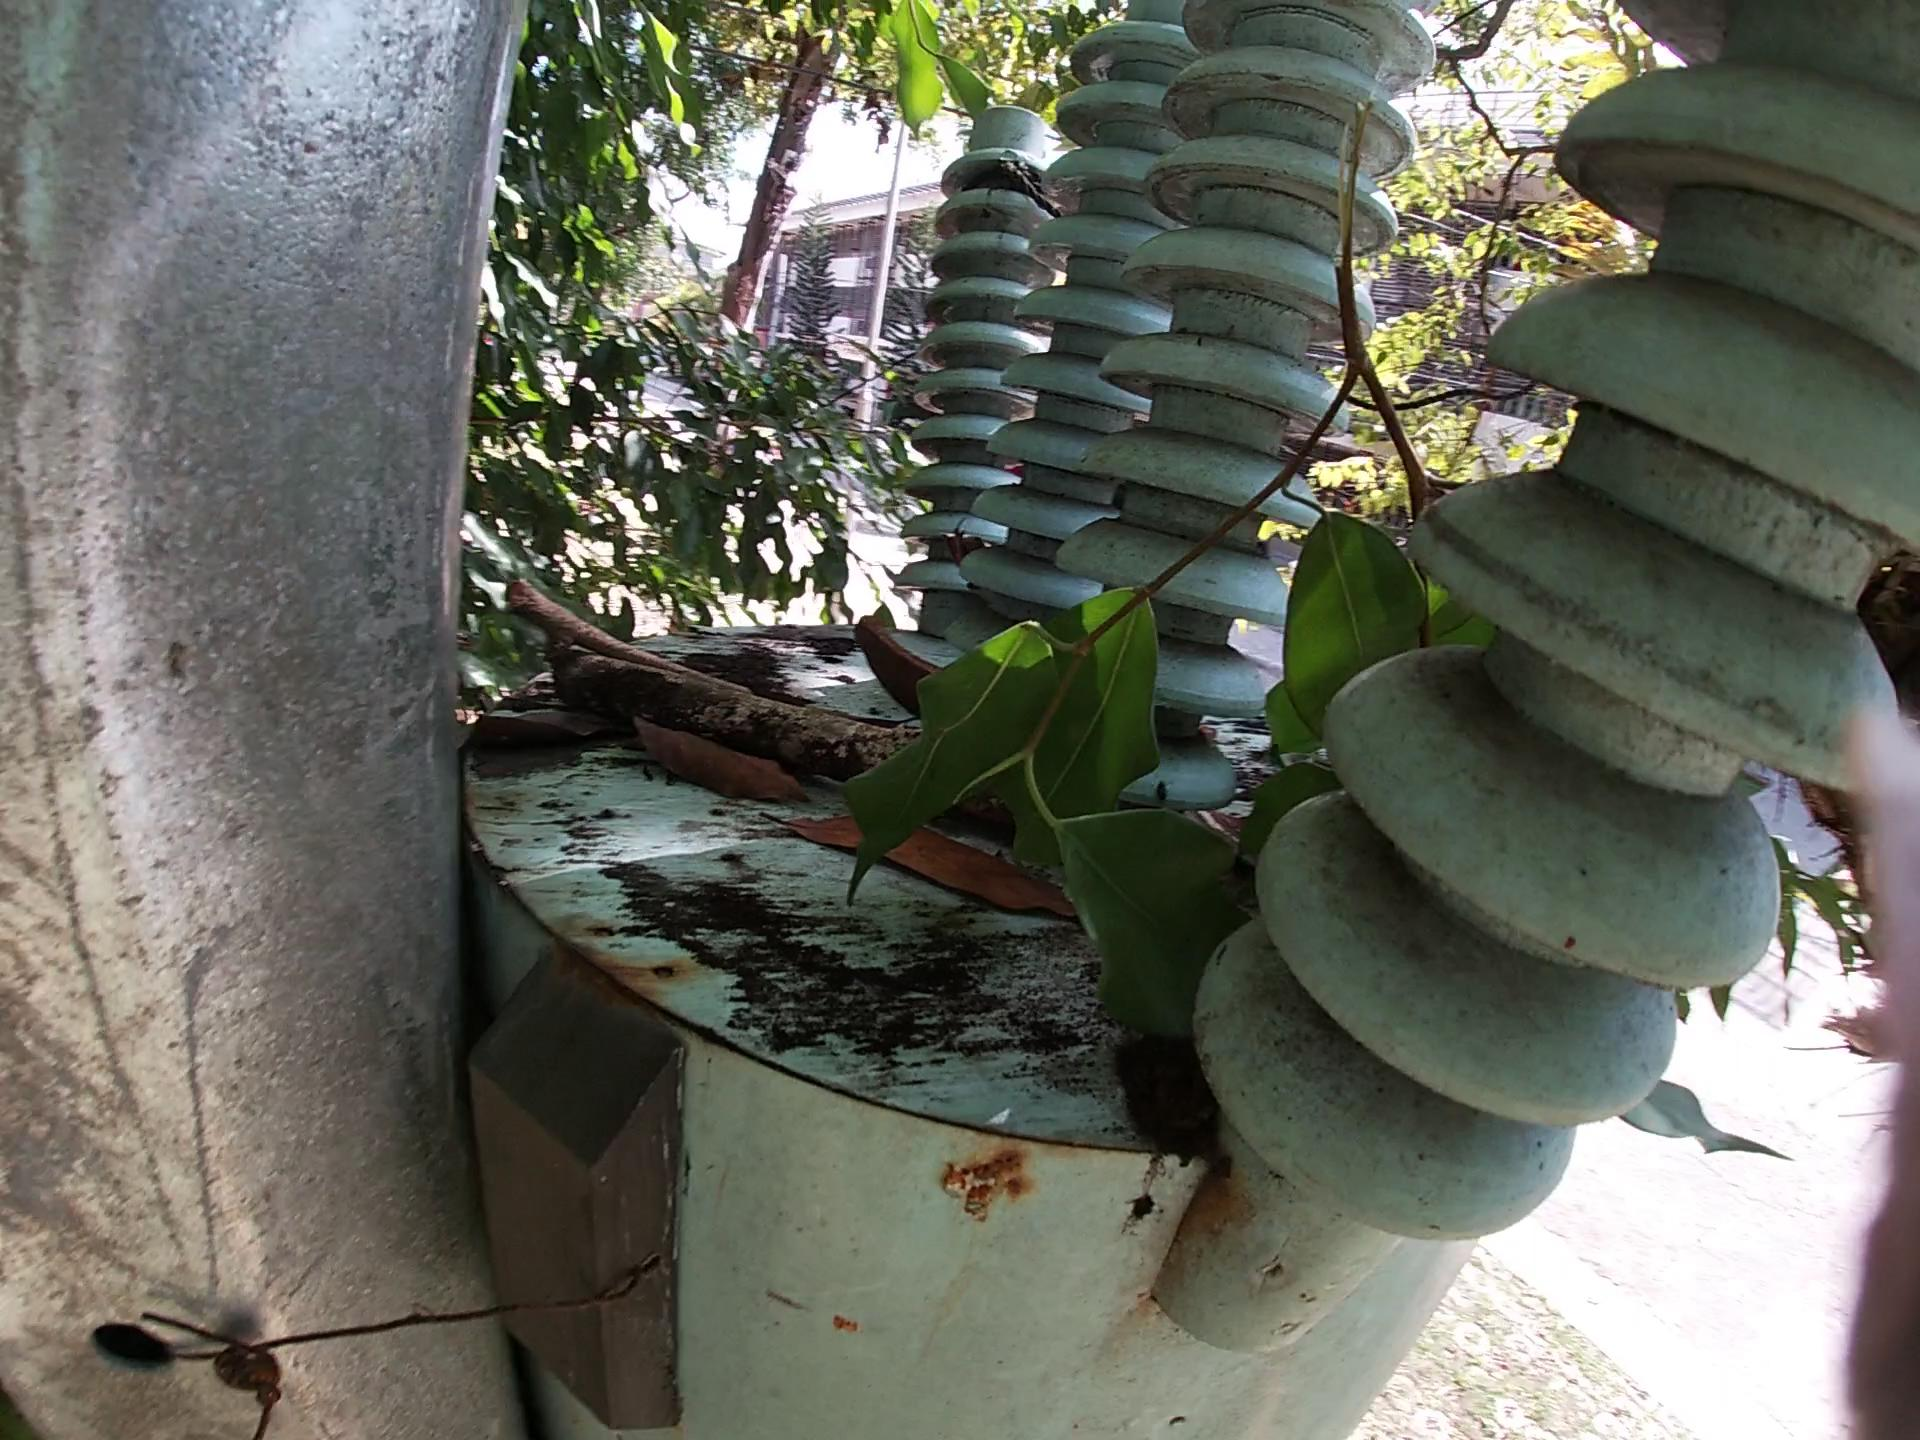branch with leaves: (906, 95, 1453, 1101)
leaf: (757, 814, 1084, 936), (1601, 1075, 1801, 1184), (609, 728, 827, 824), (469, 709, 599, 759)
mahogany fruit: (844, 622, 971, 731)
tree branch: (556, 647, 928, 777), (500, 570, 756, 685)
